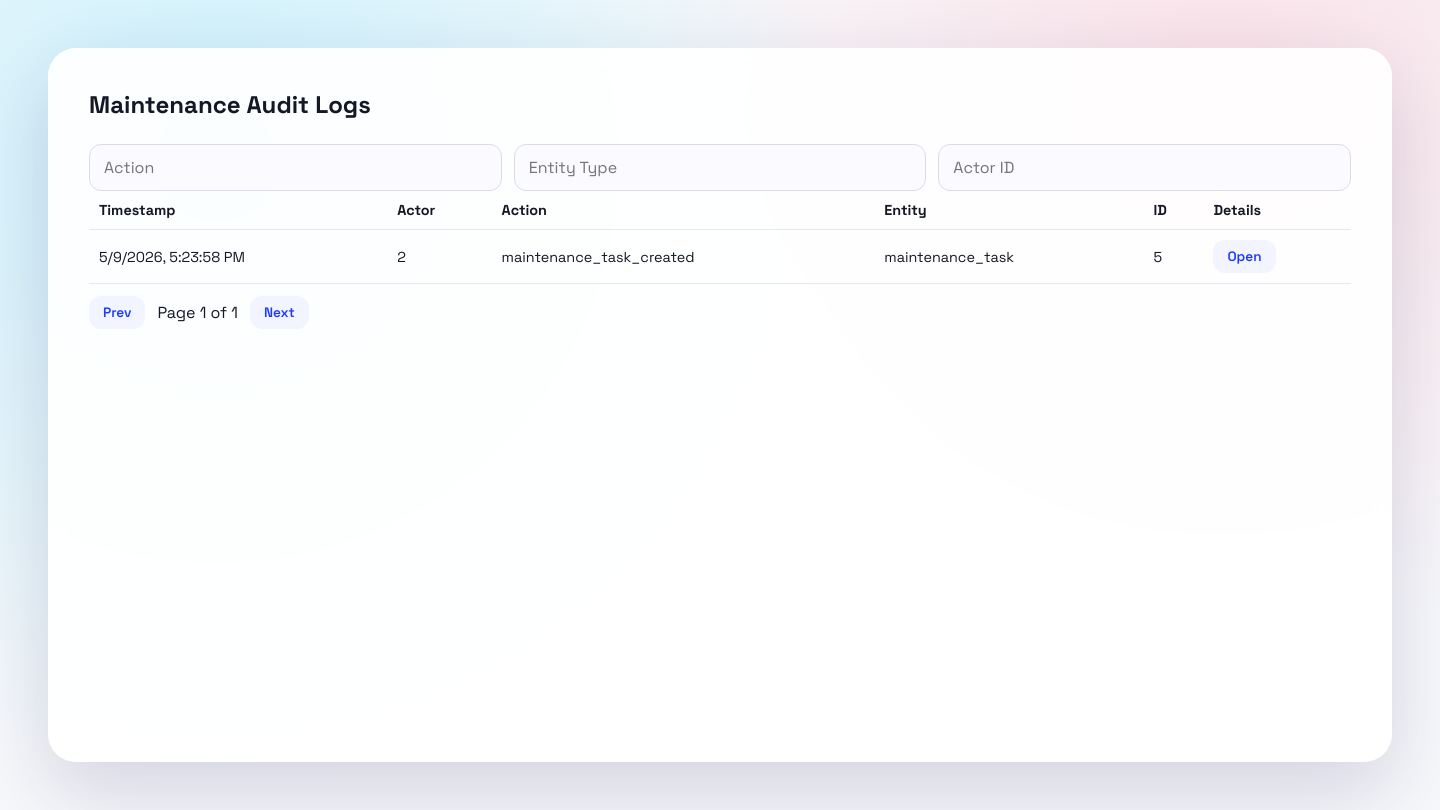
it: Maintenance audit logs › renders audit events and opens metadata drawer
The width and height of the screenshot is (1440, 810).
Expected: the text "maintenance_task_created" is shown, left=492, top=230, right=874, bottom=284
Step 1. Click the button "Open" → click(1244, 256), box left=1213, top=240, right=1276, bottom=273
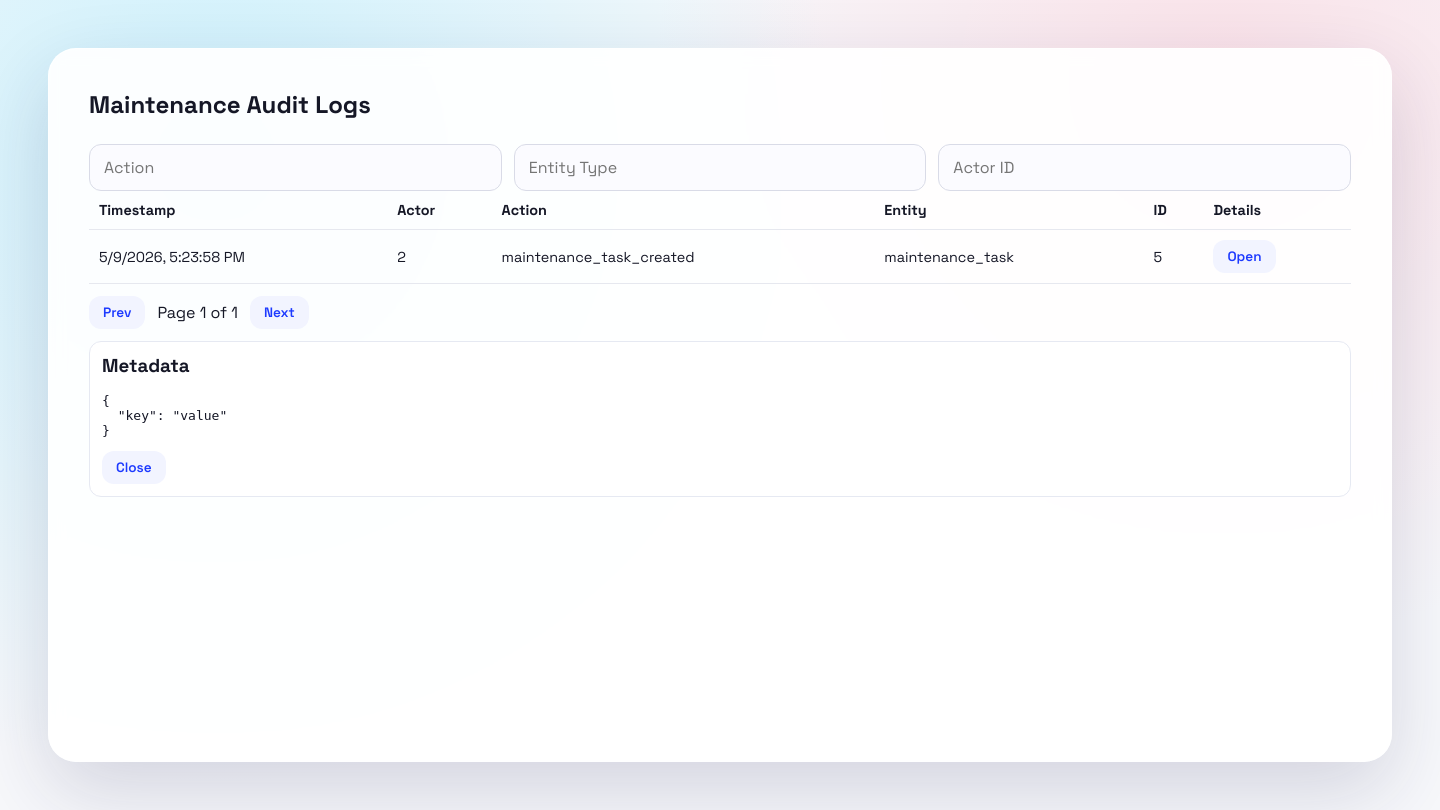
Result: the heading "Metadata" is shown at left=102, top=354, right=190, bottom=377
